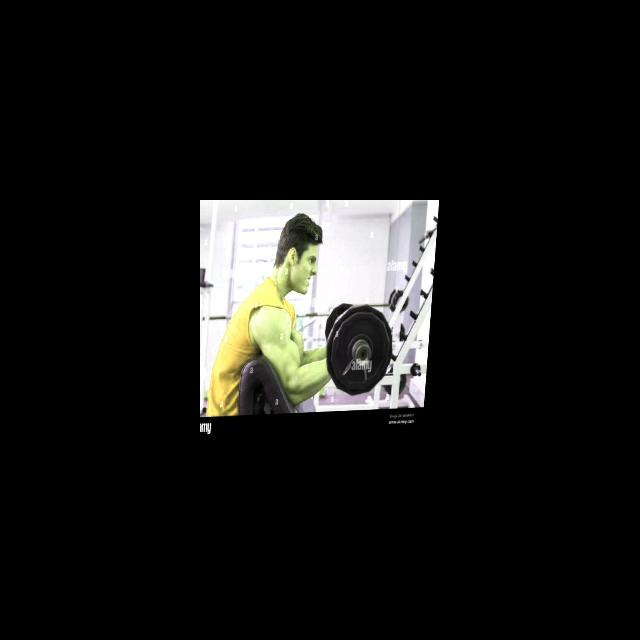barbell: (325, 303, 398, 400)
